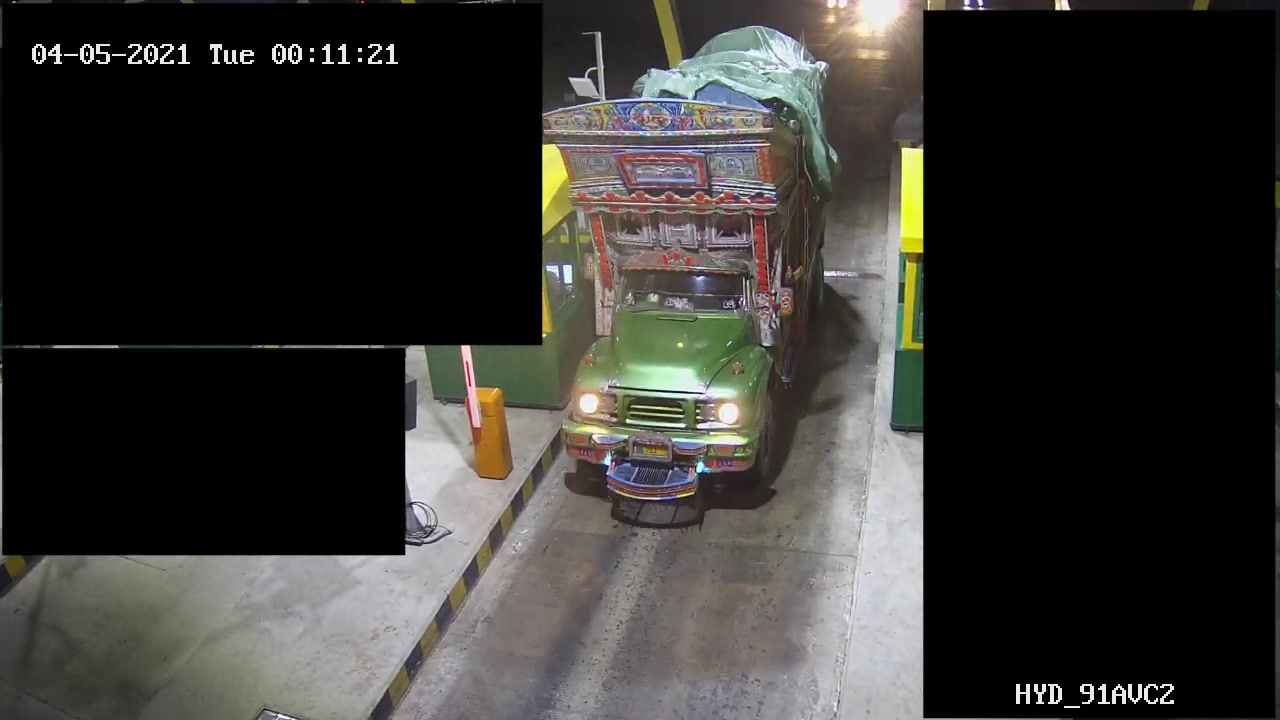F5: (552, 10, 839, 562)
